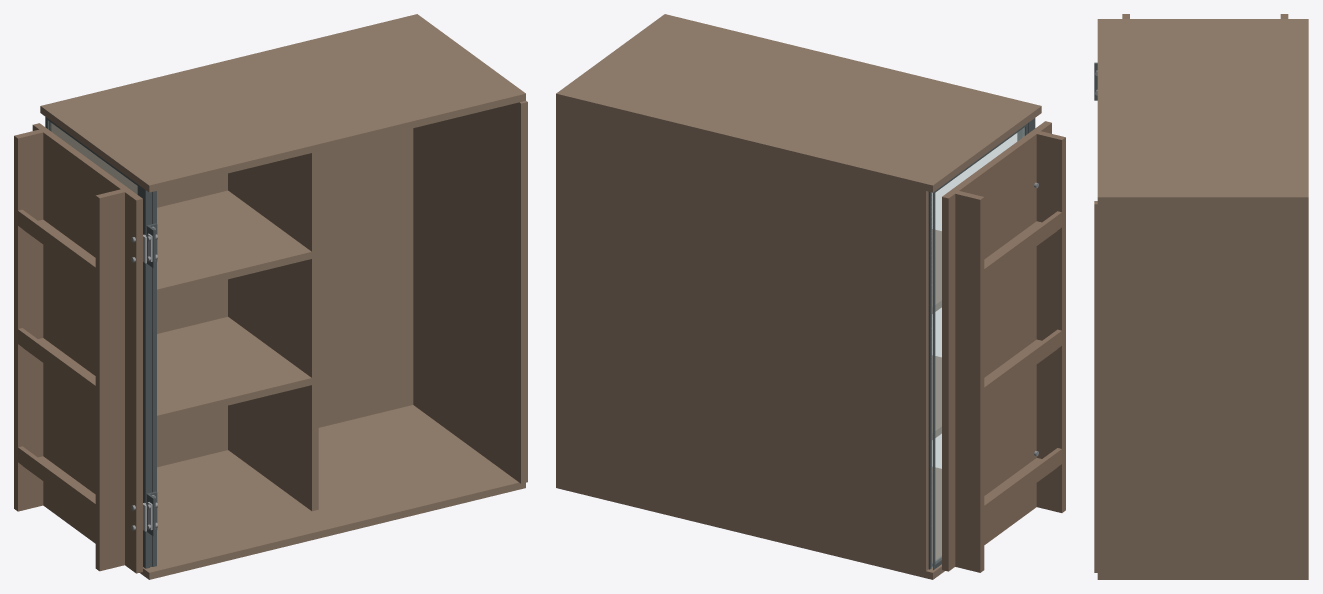
The model's file is open-270.glb.
3 renders of one model, left to right at view 1: azimuth 30°, elevation 25°; view 2: azimuth 150°, elevation 25°; view 3: azimuth 270°, elevation 25°, orthographic. The views are drawn at different scales.
Visible parts, largest first — view 1: Top-18, Opposite-side-18, Back-12, Bottom-18, Door-face-18, Center-18, Door-inner-hinge-18, Left-shelf-1-18, Left-shelf-2-18, Door-inner-meeting-18, Post-30x30, Door-lip-1-12 (+3 smaller); view 2: Back-12, Top-18, Door-face-18, Door-inner-meeting-18, Door-inner-hinge-18, Left-glass-6, Bottom-18, Opposite-side-18, Door-lip-3-12, Door-lip-1-12, Door-lip-2-12, Glazing-stop-outer (+4 smaller); view 3: Opposite-side-18, Top-18, Bottom-18.
Part boxes in pixels (x1,y1,x2,y2): Top-18: (40,14,525,192); Opposite-side-18: (413,101,527,483); Back-12: (48,121,413,467); Bottom-18: (139,405,525,579); Door-face-18: (32,123,142,573); Center-18: (228,151,318,511); Door-inner-hinge-18: (95,189,124,571); Left-shelf-1-18: (157,317,311,422); Left-shelf-2-18: (157,190,311,296); Door-inner-meeting-18: (14,129,43,511); Post-30x30: (139,185,156,568); Door-lip-1-12: (18,446,95,518); Back-12: (563,102,928,570); Top-18: (556,14,1041,192); Door-face-18: (942,121,1051,571); Door-inner-meeting-18: (955,191,984,572); Door-inner-hinge-18: (1036,131,1065,512); Left-glass-6: (931,127,1024,567); Bottom-18: (556,467,944,579); Opposite-side-18: (556,101,562,482); Door-lip-3-12: (984,211,1061,283); Door-lip-1-12: (984,448,1061,520); Door-lip-2-12: (984,329,1061,401); Glazing-stop-outer: (933,123,1027,570); Opposite-side-18: (1094,201,1308,572); Top-18: (1097,19,1308,204); Bottom-18: (1097,573,1308,579).
Bounding box in the file's own units: 1.1 × 1 × 0.508.
